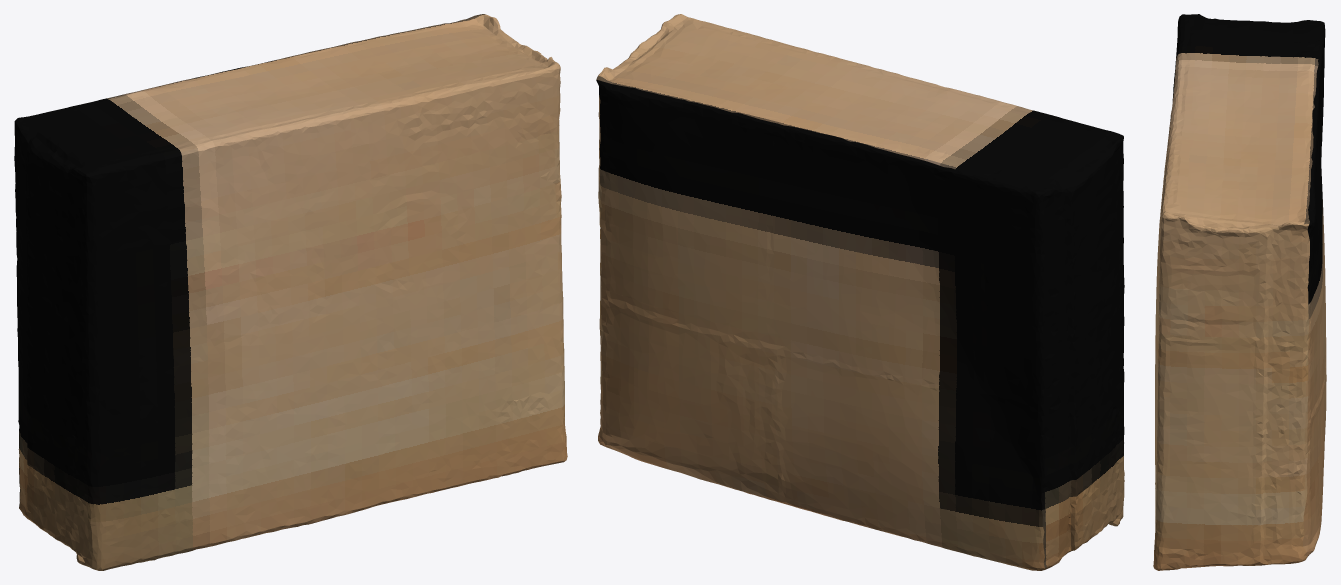
3 views of the same model, side by side, from view 1: azimuth 30°, elevation 25°; view 2: azimuth 150°, elevation 25°; view 3: azimuth 270°, elevation 25° (orthographic). The views are drawn at different scales.
Bounding box in the file's own units: 0.1127 × 0.09 × 0.0389.
